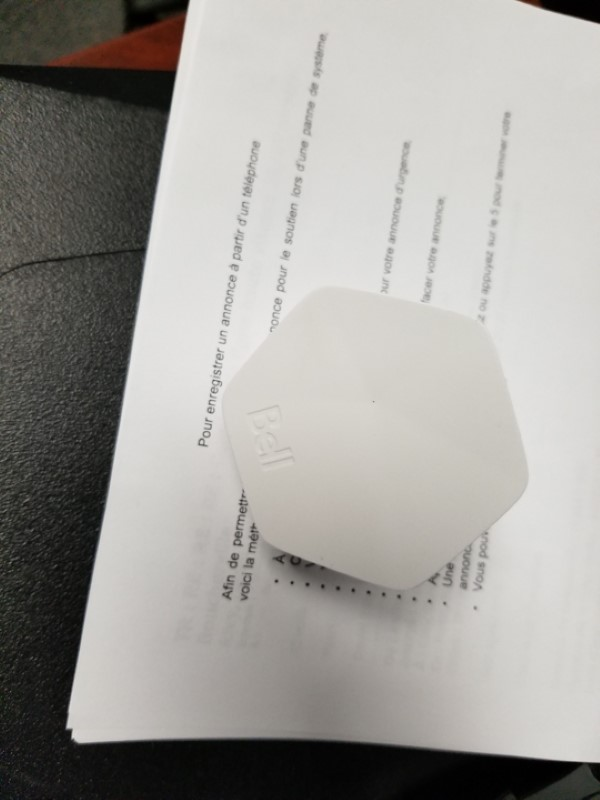pod: (214, 282, 539, 598)
